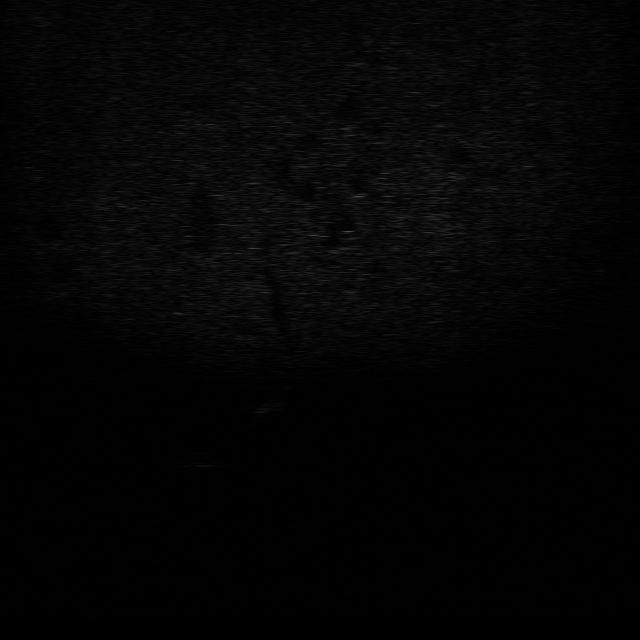human body: (250, 379, 291, 423)
